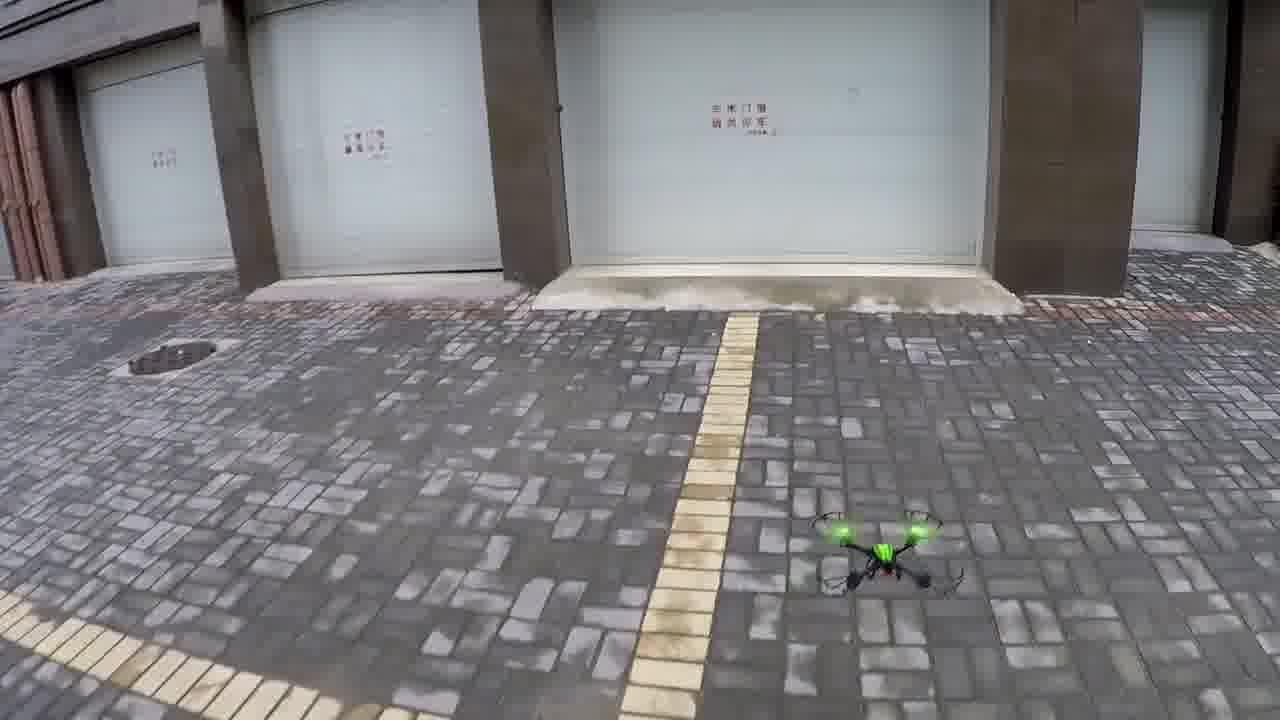drone: (801, 495, 974, 620)
